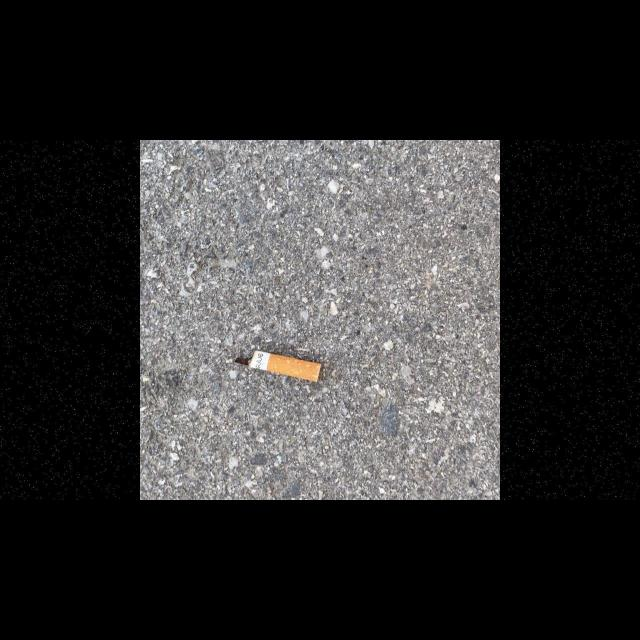cigarette: (234, 350, 322, 382)
